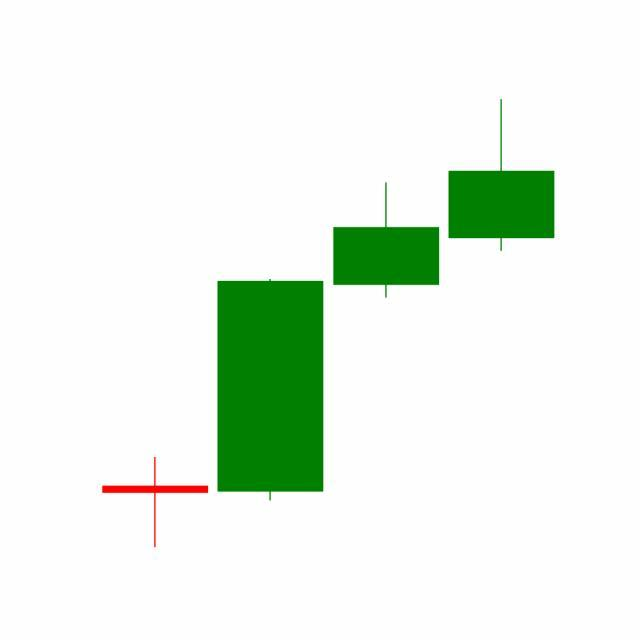Advance Block: (211, 100, 555, 507)
